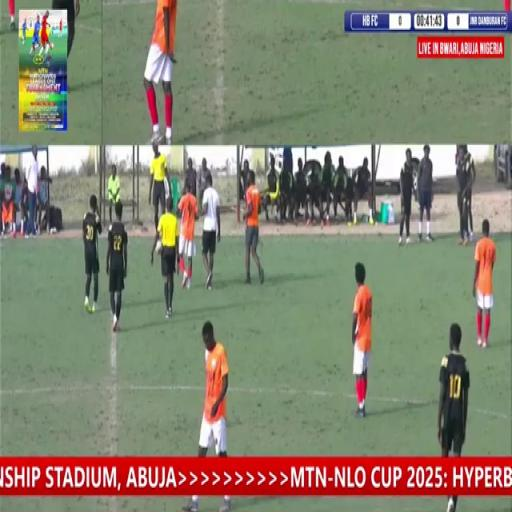ball: (156, 238, 162, 257)
distract: (200, 165, 221, 289)
referee: (163, 195, 179, 289), (148, 139, 167, 208)
team1: (194, 322, 233, 453), (348, 253, 378, 423), (143, 0, 176, 142), (472, 215, 496, 351), (179, 182, 195, 286)
team2: (439, 318, 471, 454), (81, 195, 101, 312), (107, 203, 126, 325)
